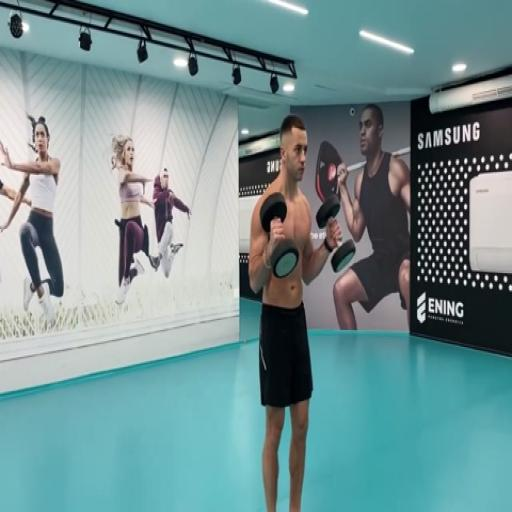exercise: (246, 112, 344, 510), (330, 102, 412, 333), (0, 111, 67, 327), (107, 131, 159, 307), (148, 164, 193, 282)
